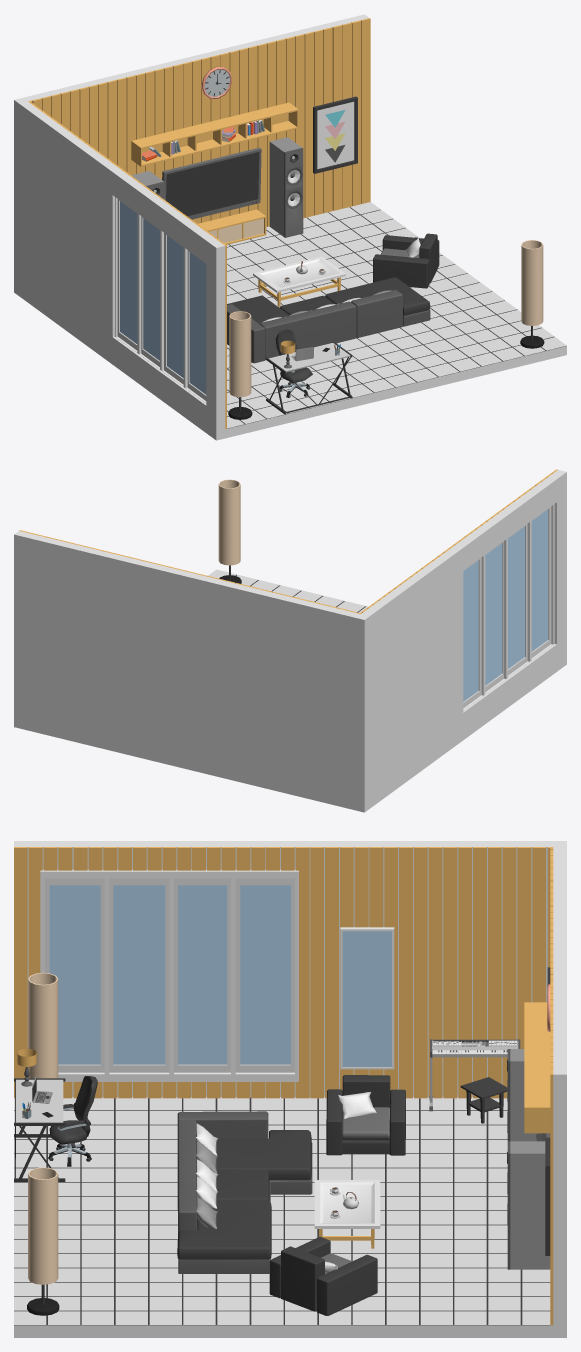
The model's file is room_17.glb.
The picture shows the model from 3 angles, top to bottom: view 1: azimuth 30°, elevation 25°; view 2: azimuth 150°, elevation 25°; view 3: azimuth 270°, elevation 25°; orthographic projection. The views are drawn at different scales.
Parts seen in each view (by area): view 1: Walls_006.118, tv_wall_026.001, window_011.003, floor_014.020, floor_014.021, sofa_028.007, Walls_011.024, floor_014.022, Walls_006.121, picture_050.001, Walls_006.120, Walls_006.119 (+40 smaller); view 2: Walls_006.117, Walls_006.118, window_011.003, Walls_006.120, Walls_006.119, Walls_006.121, lamp_floor_007.008, floor_014.020; view 3: window_011.003, floor_014.020, floor_014.021, Walls_011.024, sofa_028.007, floor_014.023, floor_014.022, tv_wall_026.001, picture_054.009, Walls_006.118, Walls_006.117, armchair_002.008 (+31 smaller).
Boxes of the visible parts, box(x1,y1,x2,y2) form: Walls_006.118: box(14, 97, 120, 364); tv_wall_026.001: box(131, 102, 303, 244); window_011.003: box(115, 197, 206, 402); floor_014.020: box(337, 273, 566, 387); floor_014.021: box(227, 202, 467, 304); sofa_028.007: box(227, 277, 430, 363); Walls_011.024: box(225, 207, 566, 438); floor_014.022: box(227, 344, 394, 428); Walls_006.121: box(206, 238, 225, 440); picture_050.001: box(313, 96, 357, 173); Walls_006.120: box(112, 170, 214, 262); Walls_006.119: box(112, 336, 206, 432); Walls_006.117: box(14, 531, 360, 810); Walls_006.118: box(355, 545, 463, 812); window_011.003: box(463, 504, 554, 710); Walls_006.120: box(455, 477, 556, 570); Walls_006.119: box(463, 644, 556, 739); Walls_006.121: box(548, 469, 566, 671); lamp_floor_007.008: box(218, 479, 241, 583); floor_014.020: box(208, 569, 368, 612); window_011.003: box(40, 869, 298, 1081); floor_014.020: box(14, 1211, 283, 1324); floor_014.021: box(285, 1211, 550, 1324); Walls_011.024: box(14, 1097, 553, 1337); sofa_028.007: box(177, 1111, 312, 1274); floor_014.023: box(285, 1097, 507, 1210); floor_014.022: box(14, 1097, 283, 1210); tv_wall_026.001: box(507, 1002, 550, 1269); picture_054.009: box(340, 927, 394, 1069); Walls_006.118: box(297, 841, 566, 1096); Walls_006.117: box(553, 847, 566, 1337); armchair_002.008: box(269, 1236, 377, 1315).
Size of the model in its own units: 8 by 4.2 by 8.
Materials: 1 (1 with a texture image).
